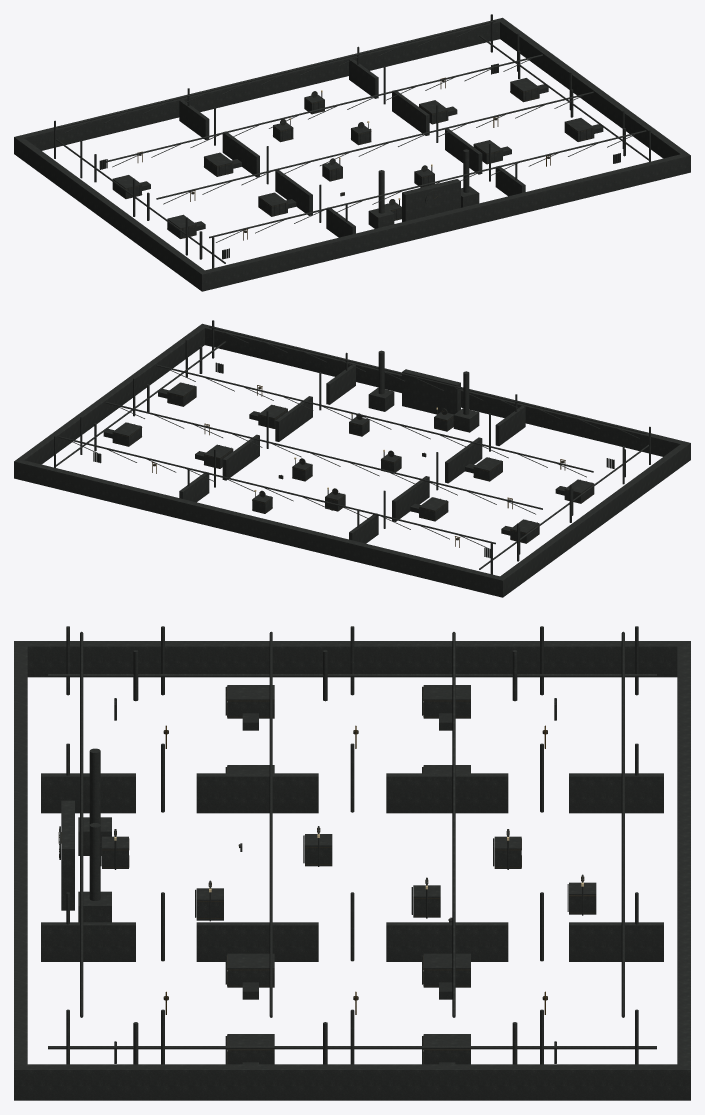
The model's file is environment.glb.
The picture shows the model from 3 angles, top to bottom: view 1: azimuth 30°, elevation 25°; view 2: azimuth 150°, elevation 25°; view 3: azimuth 270°, elevation 25°; orthographic projection. The views are drawn at different scales.
Visible parts, largest first — view 1: Environment_iron.004, Environment_brass.004; view 2: Environment_iron.004, Environment_brass.004; view 3: Environment_iron.004, Environment_brass.004.
Boxes of the visible parts, <box> form: Environment_iron.004: <box>14,14,690,291</box>; Environment_brass.004: <box>113,80,593,238</box>; Environment_iron.004: <box>14,320,690,597</box>; Environment_brass.004: <box>113,386,594,542</box>; Environment_iron.004: <box>14,626,690,1100</box>; Environment_brass.004: <box>58,686,596,1063</box>.
Bounding box in the file's own units: 150 × 16 × 100.
5 materials, 4 textured.
